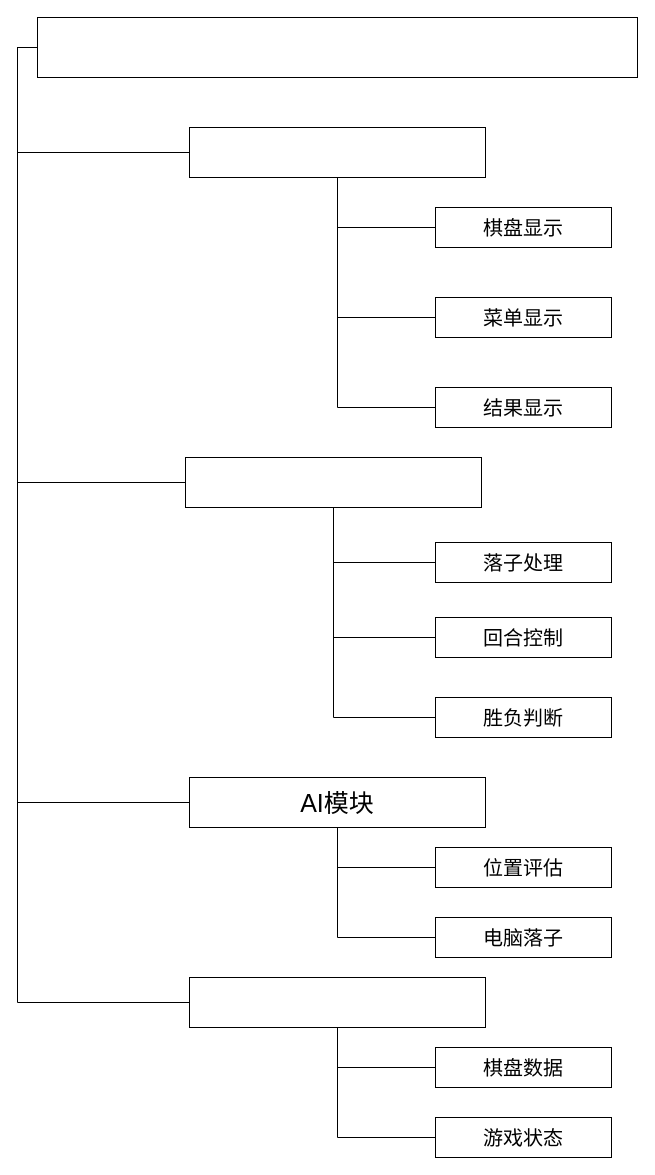
This 655x1175 diagram has some shape labels left out. The shapes that lost their labels are listed below. From the top down, each one's centre as x and y in pixels, then its label:
point (337, 47): 五子棋系统
point (337, 152): 界面模块
point (333, 482): 游戏控制模块
point (337, 1002): 数据管理模块
